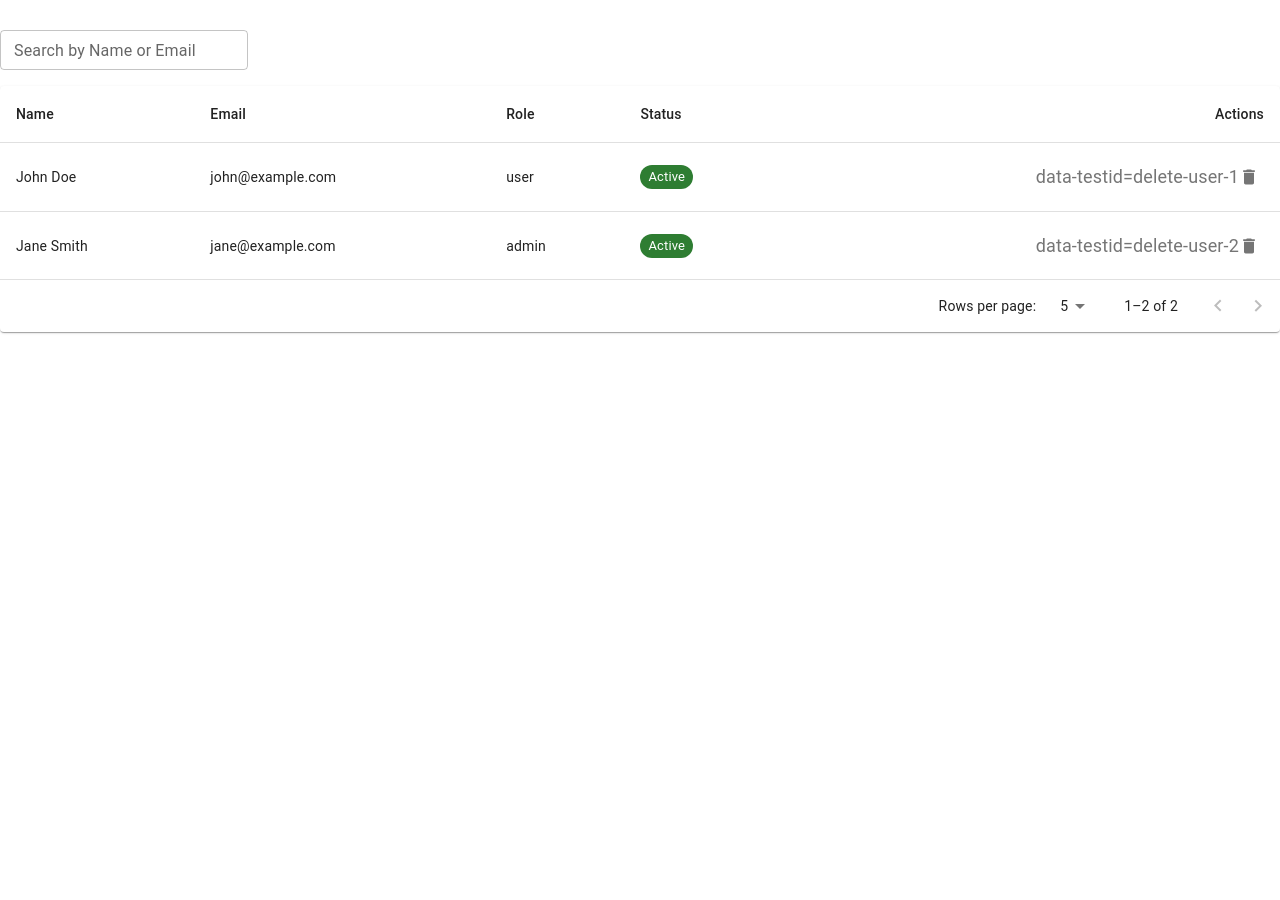
Test: AccountManagerTable › opens and closes delete confirmation dialog
The image size is (1280, 900).
expect the text "John Doe" is shown: met, box [0, 142, 194, 211]
Click the button "data-testid=delete-user-1" at x=1147, y=177, box [1031, 159, 1264, 195]
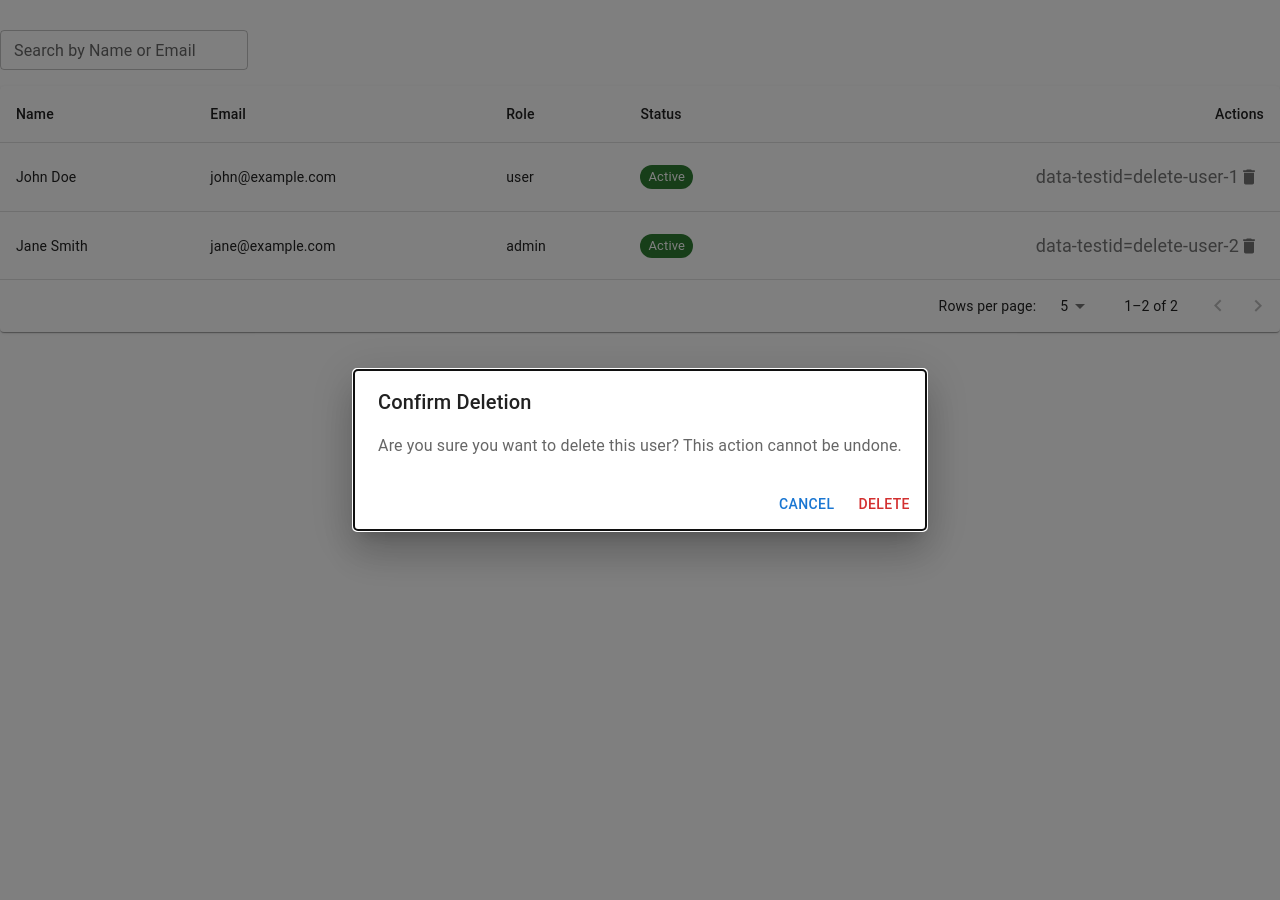
expect the heading "Confirm Deletion" is shown: met, box [378, 390, 532, 414]
Click the button "Cancel" at x=807, y=504, box [771, 486, 842, 522]
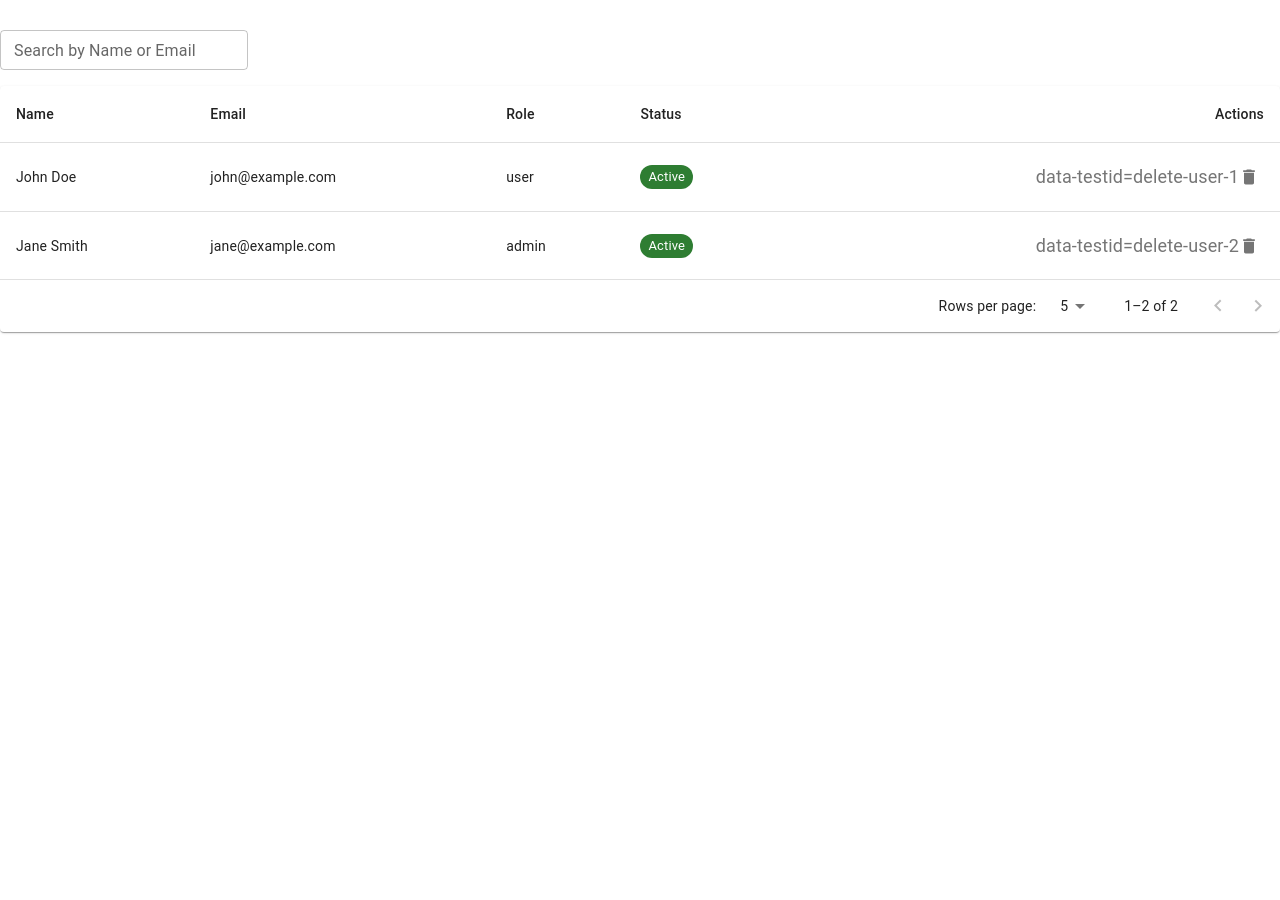
expect the heading "Confirm Deletion" is gone: met
